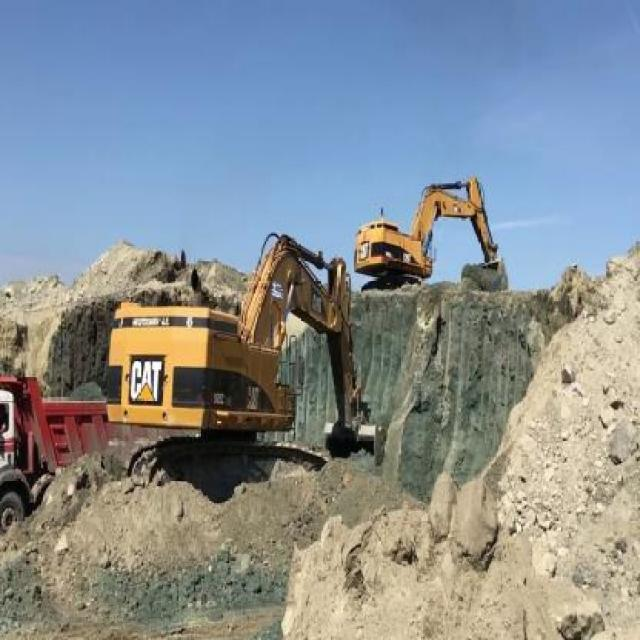Dump Truck: (0, 378, 102, 530)
Excavator: (108, 212, 392, 482), (352, 160, 511, 297)
